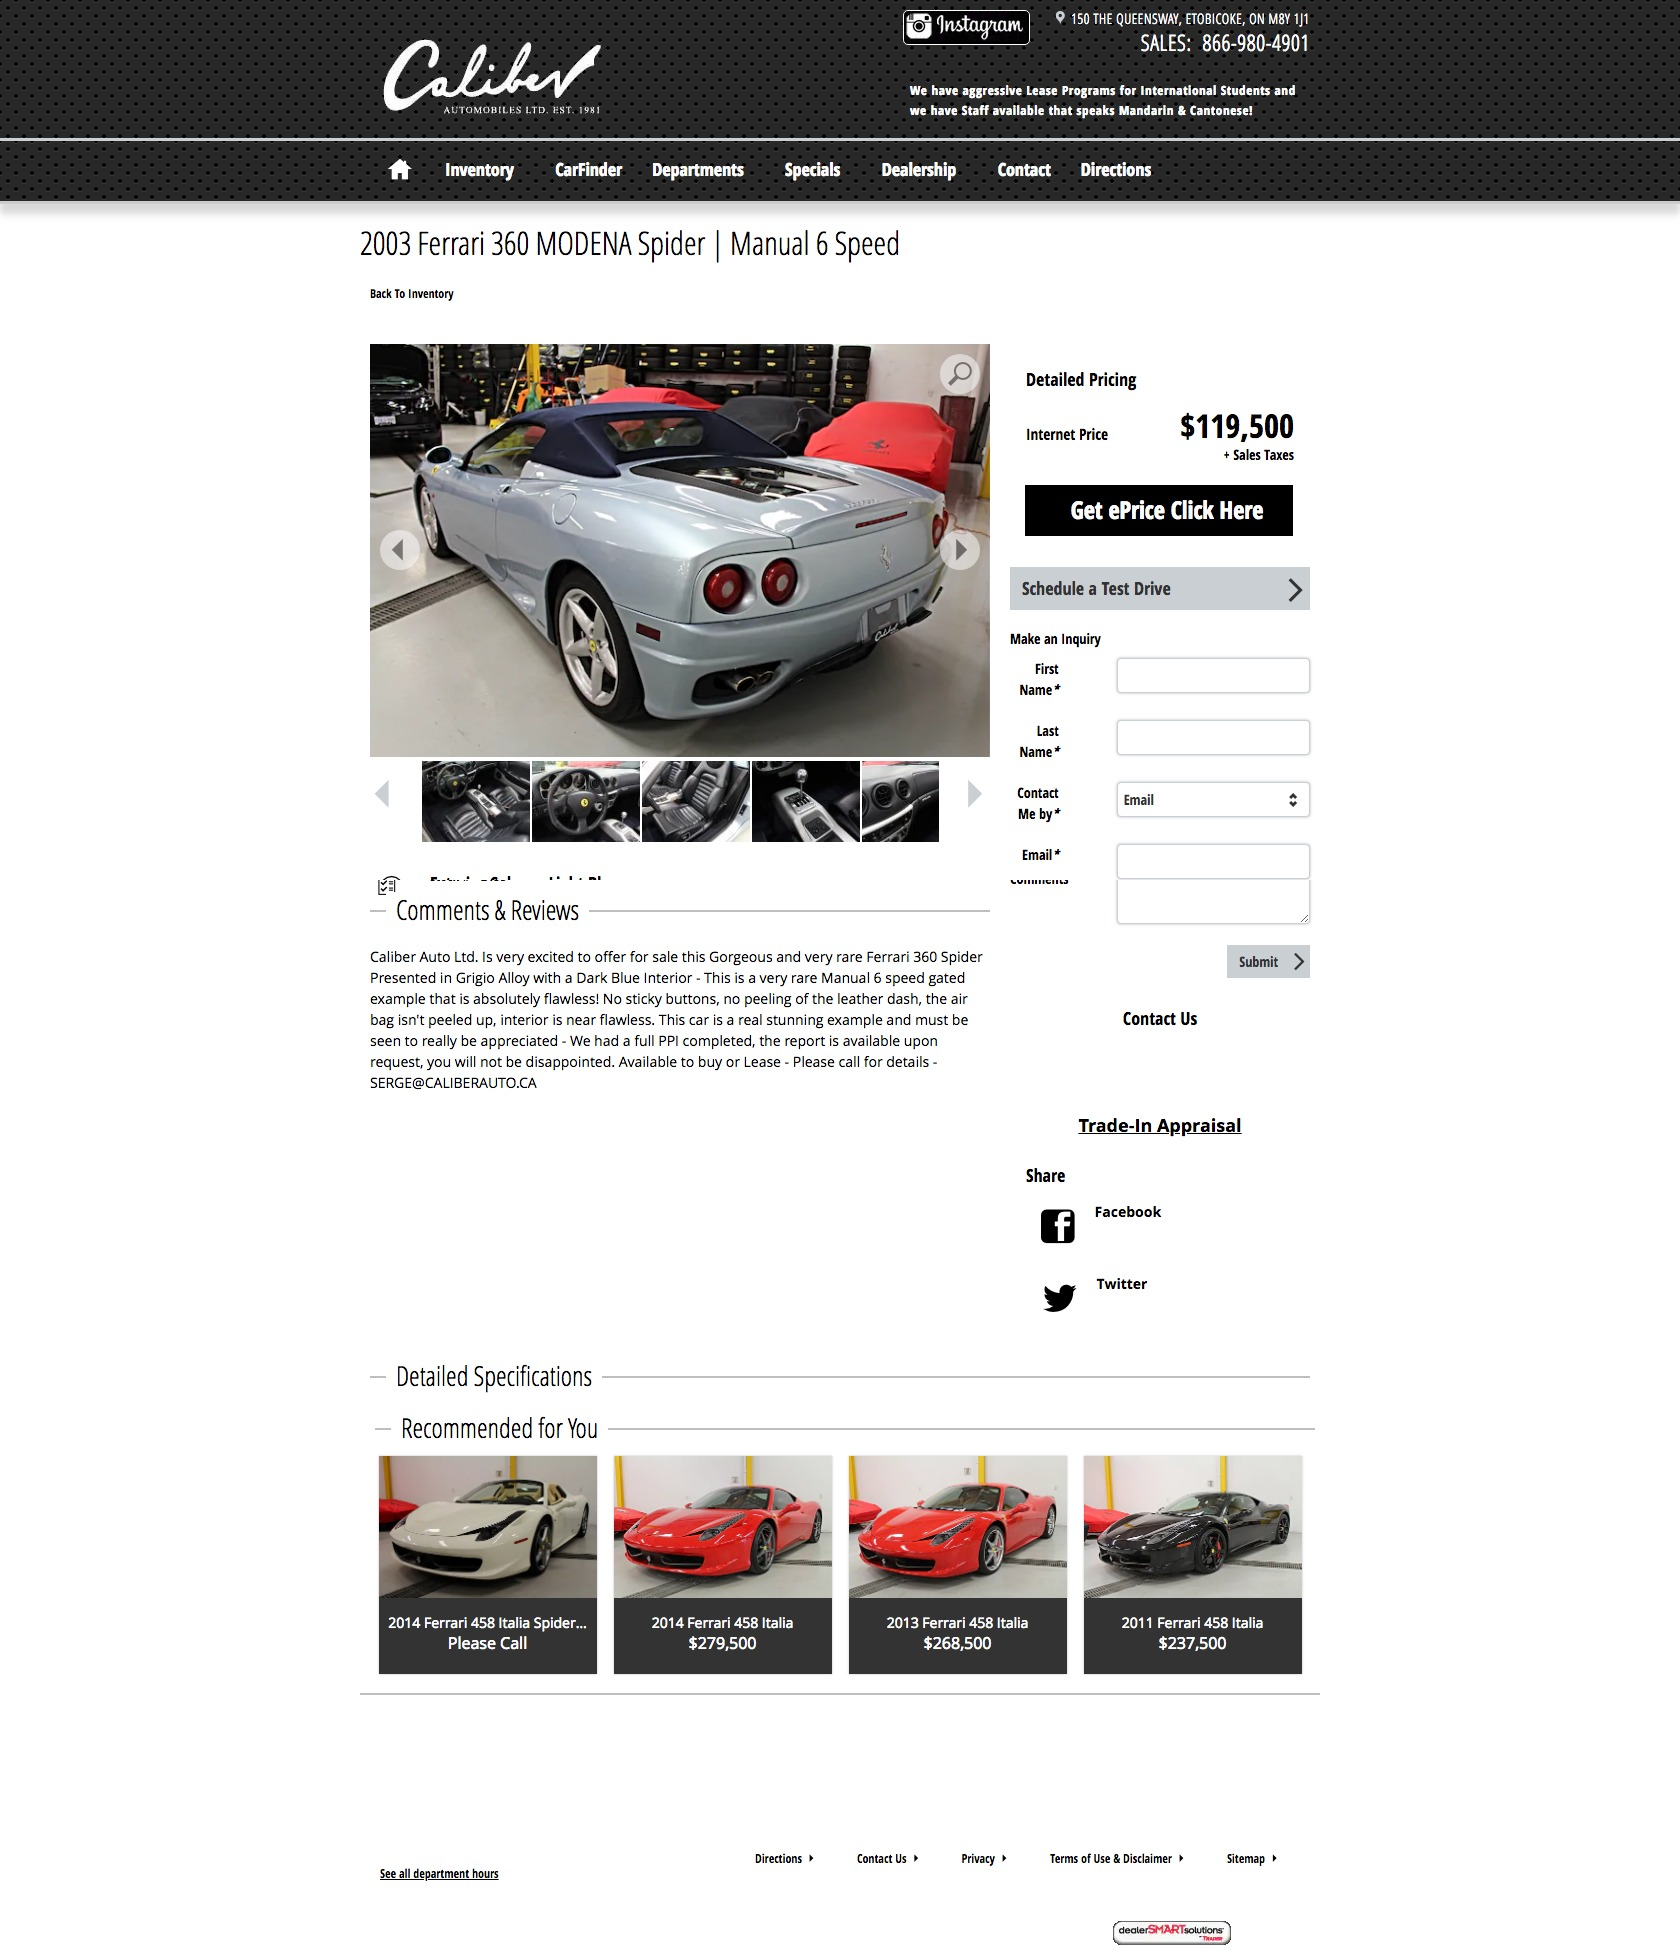car: (966, 780, 983, 808)
